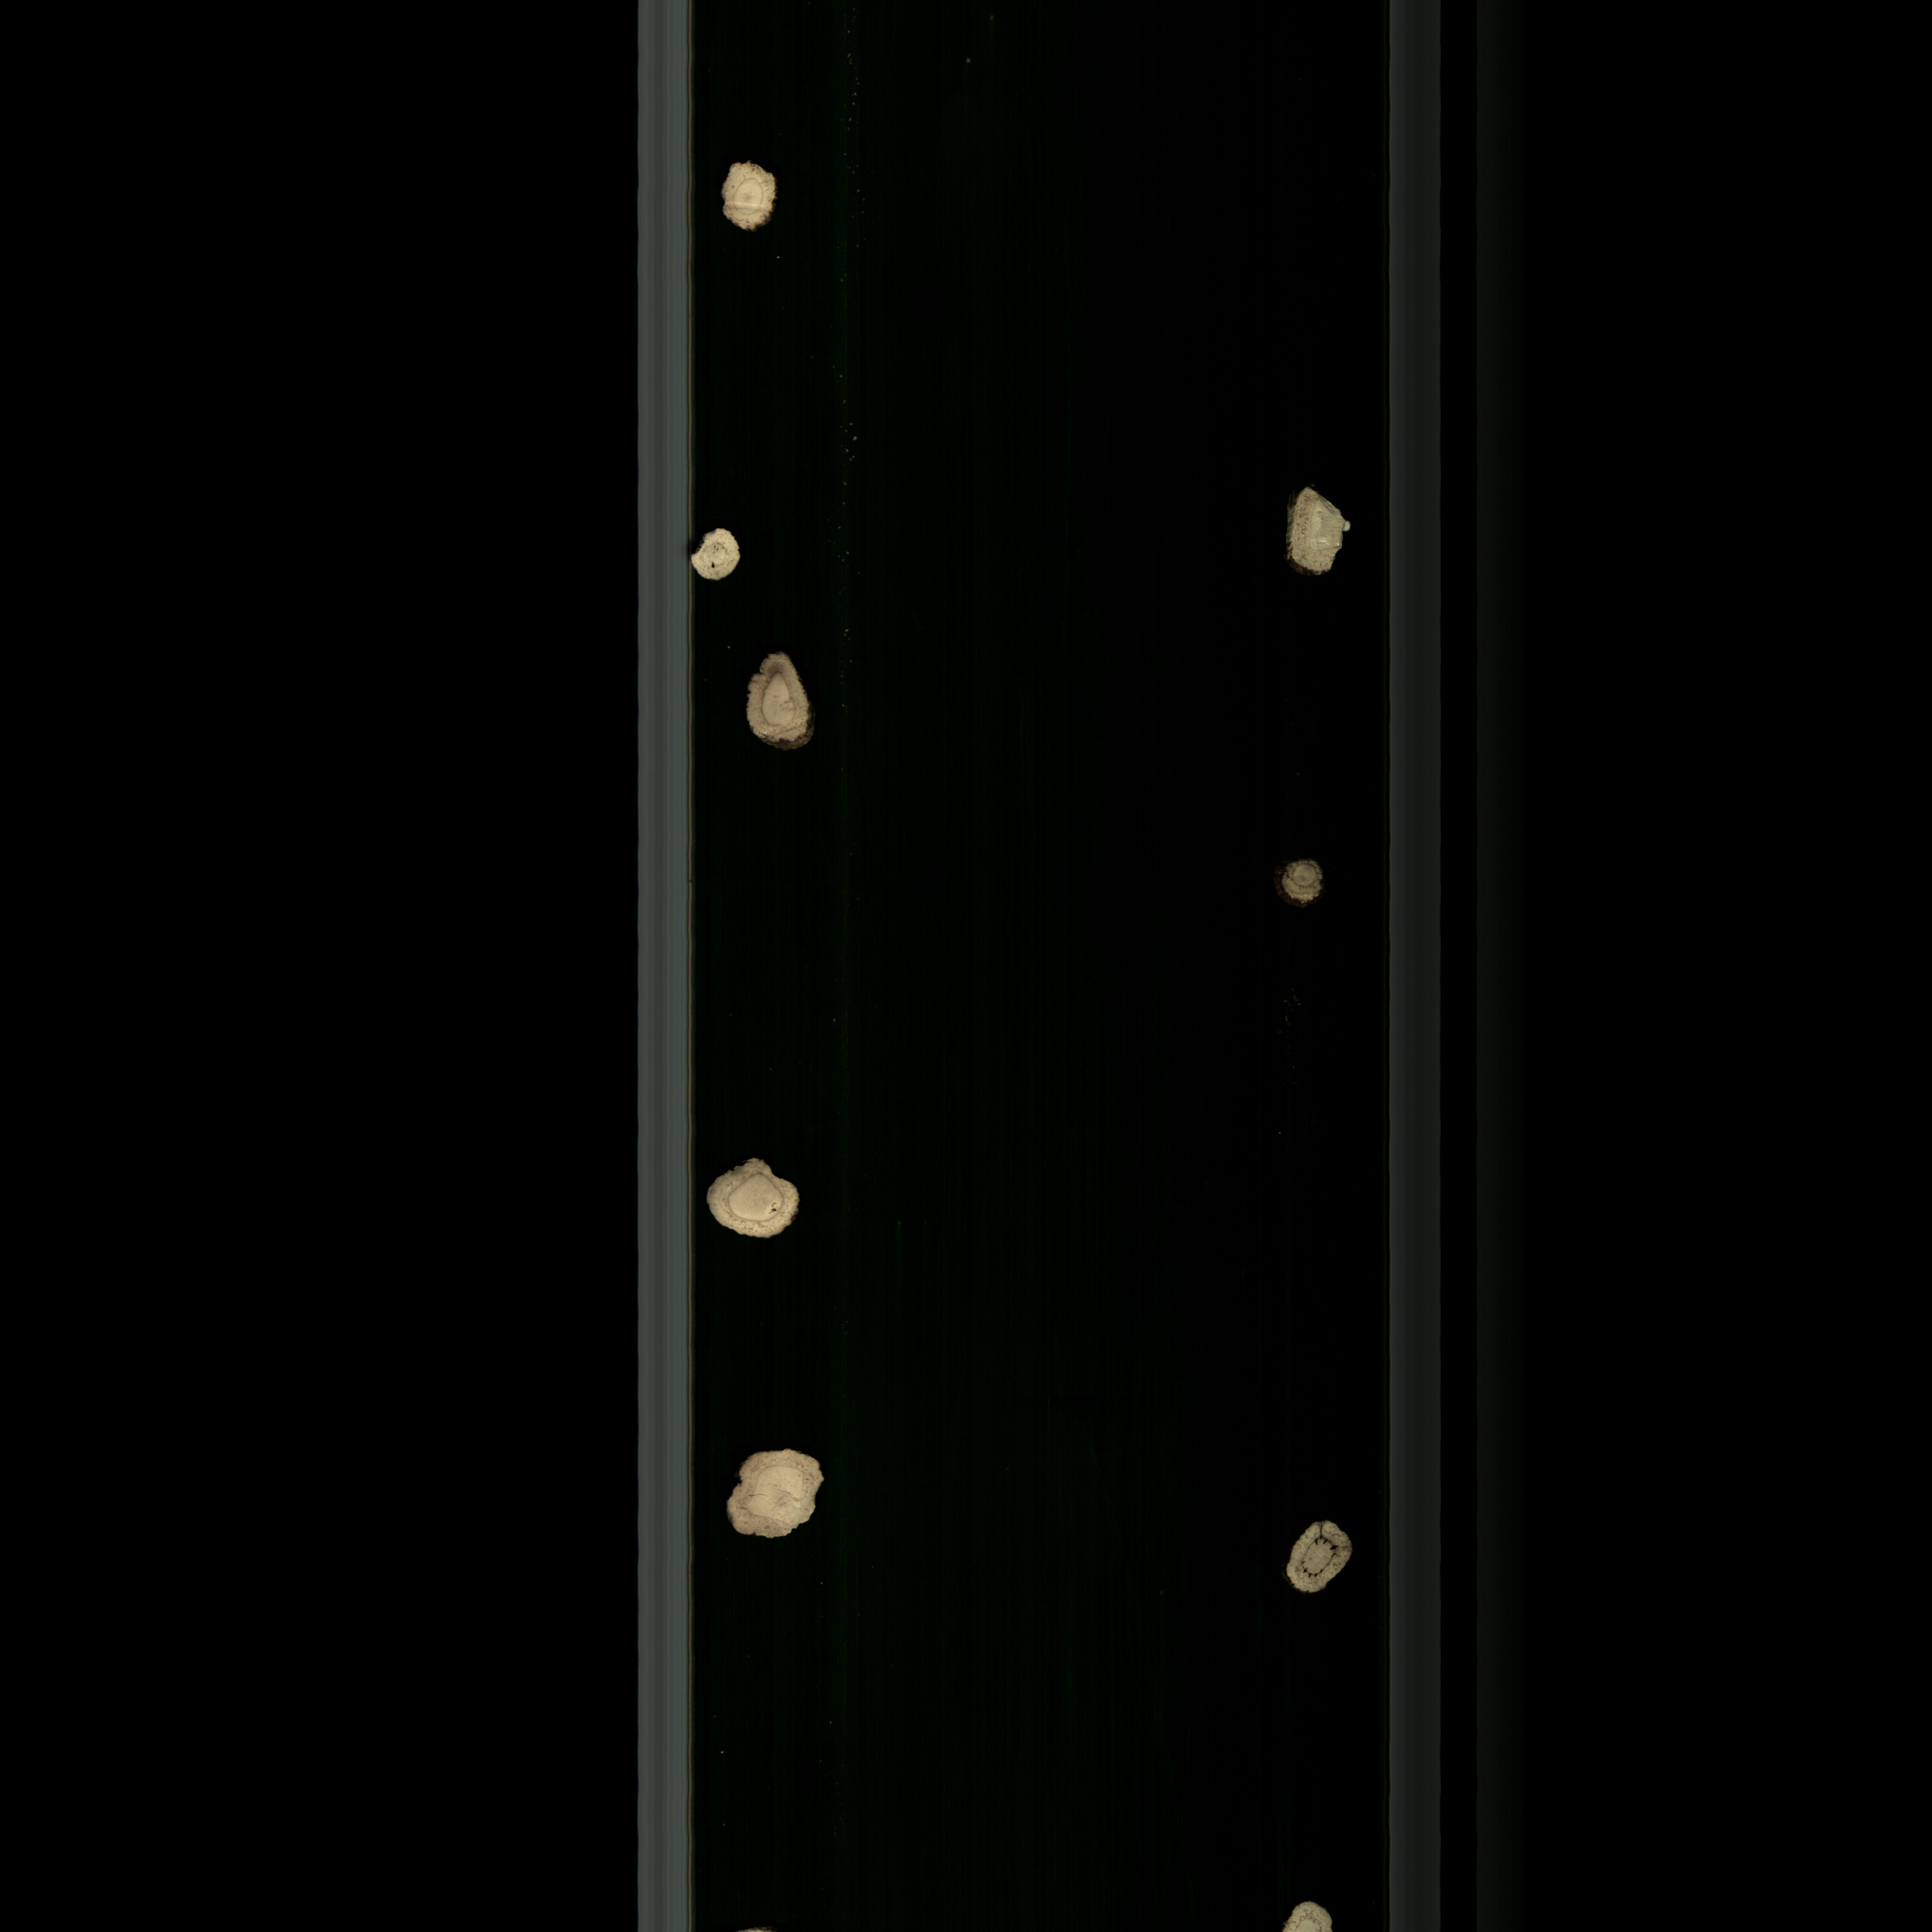debris: (725, 1444, 847, 1548), (1284, 481, 1366, 587), (685, 522, 750, 587)
hole: (699, 1152, 821, 1256), (1276, 1509, 1364, 1614)
moldy: (738, 640, 821, 763), (709, 152, 787, 244), (1277, 855, 1332, 915)
